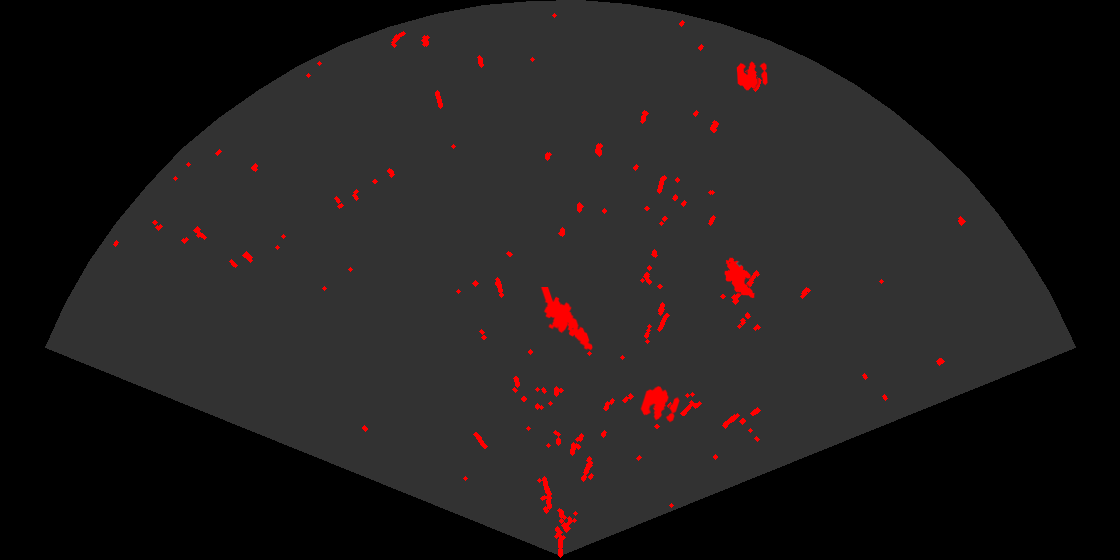AUV: (723, 256, 756, 300)
ball: (639, 384, 681, 424), (735, 60, 769, 92)
frogman: (539, 287, 595, 352)
